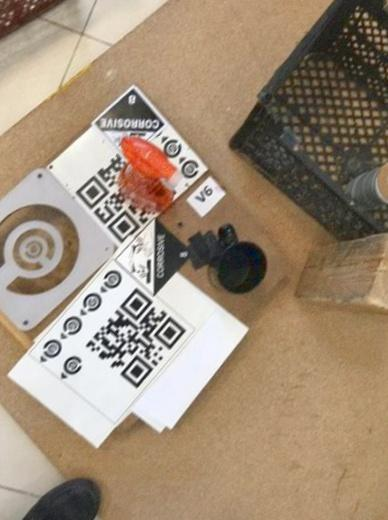corrosive: (112, 212, 194, 303), (90, 78, 173, 166)
